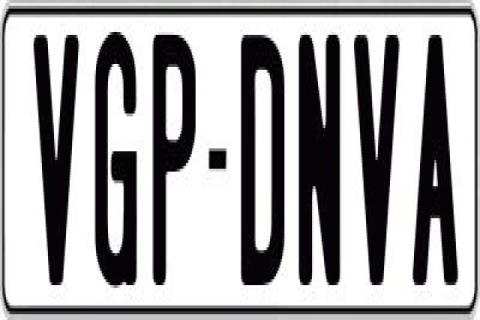A: (409, 32, 456, 291)
D: (240, 32, 284, 282)
G: (92, 23, 134, 285)
N: (296, 29, 340, 288)
P: (148, 35, 196, 294)
V: (350, 26, 400, 291), (30, 27, 80, 286)
